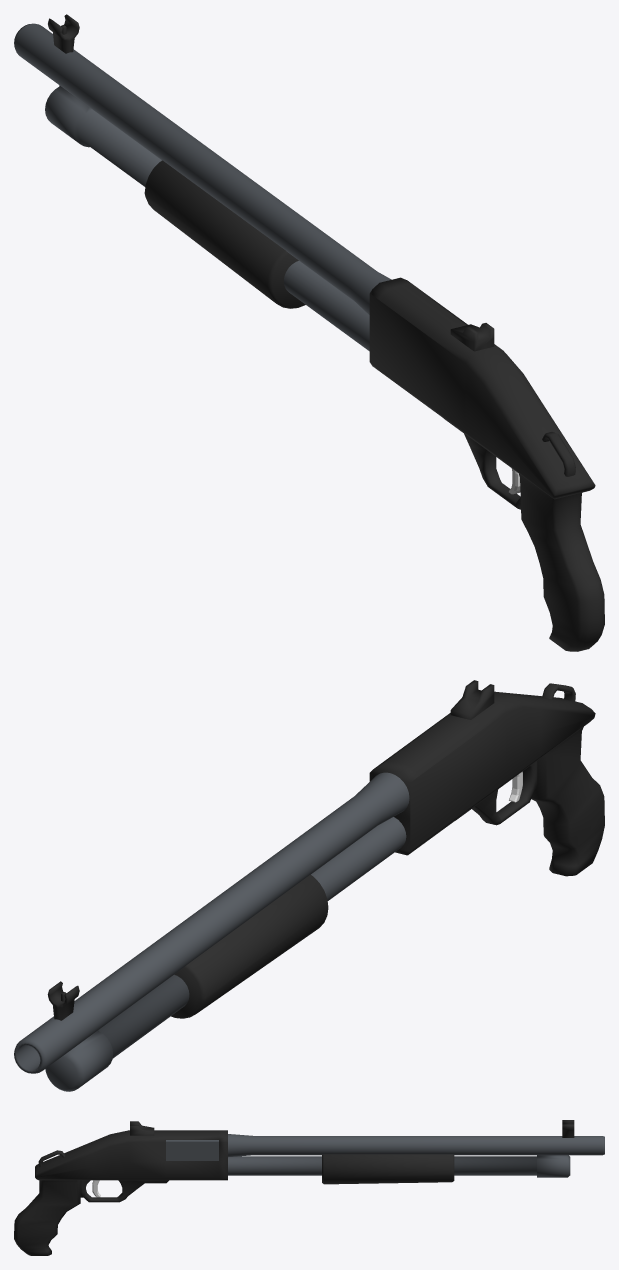
The model's file is m3-world.glb.
3 views of the same model, one above another, from view 1: azimuth 30°, elevation 25°; view 2: azimuth 150°, elevation 25°; view 3: azimuth 270°, elevation 25° (orthographic). The views are drawn at different scales.
Visible parts, largest first — view 1: Cabo, Cano, pump; view 2: Cano, Cabo, pump; view 3: Cano, Cabo, pump, Camara.
Part boxes in pixels (x1,y1,x2,y2): Cabo: (48,14,604,651); Cano: (14,23,391,351); pump: (144,160,305,308); Cano: (14,772,409,1091); Cabo: (47,680,604,1020); pump: (171,874,328,1018); Cano: (228,1134,604,1177); Cabo: (14,1120,574,1255); pump: (322,1154,454,1184); Camara: (166,1140,218,1160).
Bounding box in the file's own units: 0.0589 × 0.2308 × 0.95.
5 materials, 4 textured.
